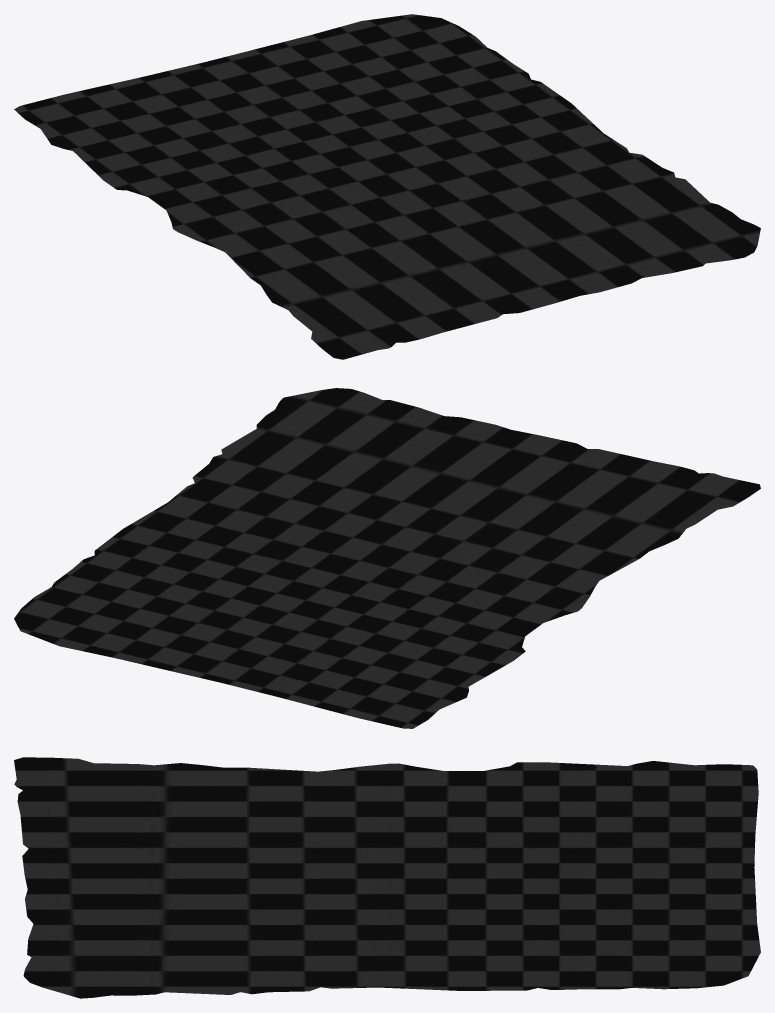
File: page.fbx
3 views of the same model, one above another, from view 1: azimuth 30°, elevation 25°; view 2: azimuth 150°, elevation 25°; view 3: azimuth 270°, elevation 25° (orthographic). The views are drawn at different scales.
Parts seen in each view (by area): view 1: page_01.001; view 2: page_01.001; view 3: page_01.001.
Boxes of the visible parts, x1,y1,x2,y2 form: page_01.001: [14, 14, 760, 359]; page_01.001: [14, 388, 760, 728]; page_01.001: [14, 757, 760, 998].
Size of the model in its own units: 18.47 by 2.44e-06 by 24.17.
